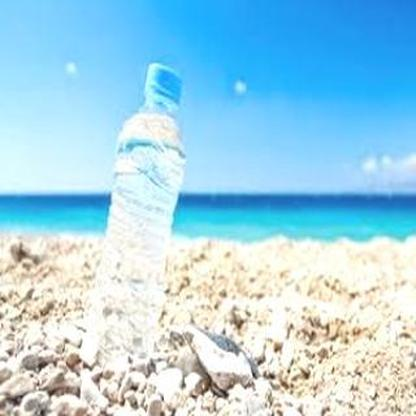plastic bottle: (84, 63, 187, 367)
